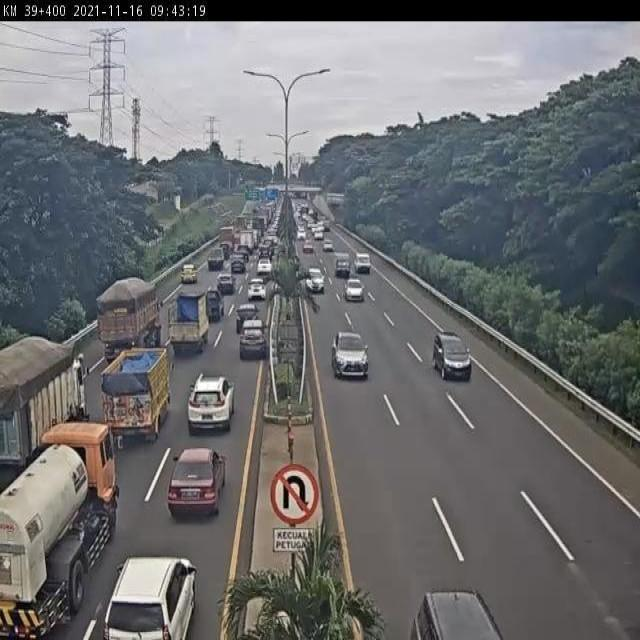Car: (102, 555, 197, 639), (168, 446, 226, 518), (186, 372, 235, 433), (432, 331, 474, 381), (330, 329, 370, 379), (238, 320, 268, 359), (235, 300, 261, 332), (344, 278, 365, 302), (306, 268, 325, 294), (247, 279, 267, 301), (216, 272, 235, 295), (179, 264, 197, 284), (256, 258, 272, 279), (230, 255, 246, 274), (235, 245, 250, 263), (258, 244, 272, 260), (302, 239, 314, 254), (322, 240, 333, 252), (314, 229, 324, 241), (296, 229, 306, 241), (310, 224, 319, 235), (317, 222, 325, 232), (296, 222, 304, 232)
Truck: (0, 418, 126, 640), (0, 332, 91, 490), (101, 343, 175, 444), (95, 277, 165, 363), (168, 288, 209, 354), (206, 289, 226, 320), (232, 215, 250, 248), (333, 252, 351, 279), (219, 225, 235, 254), (353, 251, 371, 275), (207, 248, 225, 270), (251, 215, 266, 238), (250, 228, 260, 249)
